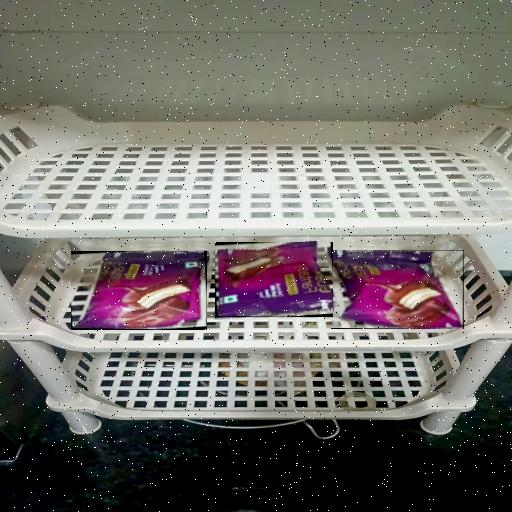Choco Pie: (71, 251, 207, 330), (331, 250, 464, 329), (215, 242, 333, 317)
